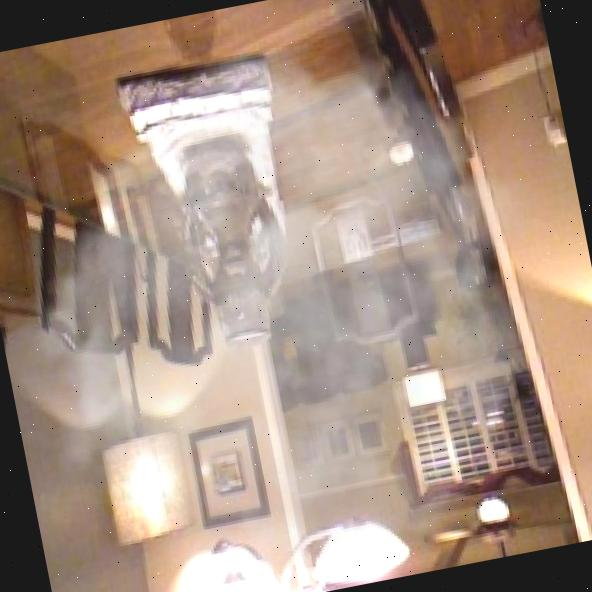smoke: (0, 6, 592, 592)
